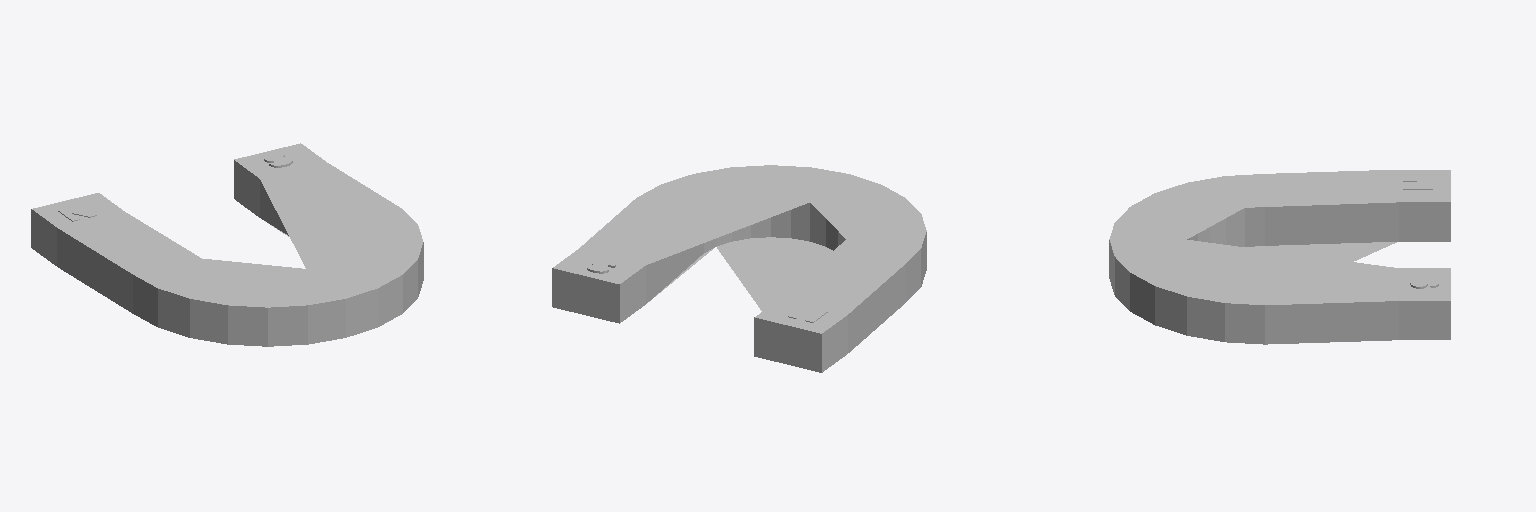
File: magnet.obj
3 renders of one model, left to right at view 1: azimuth 30°, elevation 25°; view 2: azimuth 150°, elevation 25°; view 3: azimuth 270°, elevation 25°, orthographic.
Parts seen in each view (by area): view 1: grp2, grp4, grp5, grp1; view 2: grp2, grp4, grp5, grp1; view 3: grp2, grp4, grp5, grp1.
Part boxes in pixels (left/top/right/bottom): grp2: left=57, top=162, right=423, bottom=346; grp4: left=234, top=143, right=325, bottom=217; grp5: left=31, top=193, right=124, bottom=265; grp1: left=58, top=153, right=292, bottom=221; grp2: left=579, top=165, right=926, bottom=352; grp4: left=552, top=249, right=645, bottom=323; grp5: left=754, top=298, right=847, bottom=372; grp1: left=587, top=259, right=827, bottom=322; grp2: left=1109, top=170, right=1398, bottom=344; grp4: left=1399, top=268, right=1450, bottom=339; grp5: left=1399, top=170, right=1450, bottom=241; grp1: left=1403, top=177, right=1438, bottom=288.
Bounding box in the file's own units: 74.31 × 10.54 × 78.9.